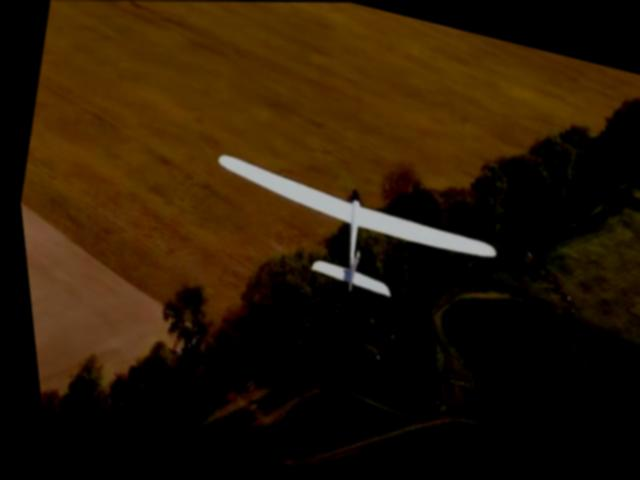iha: (183, 143, 510, 330)
